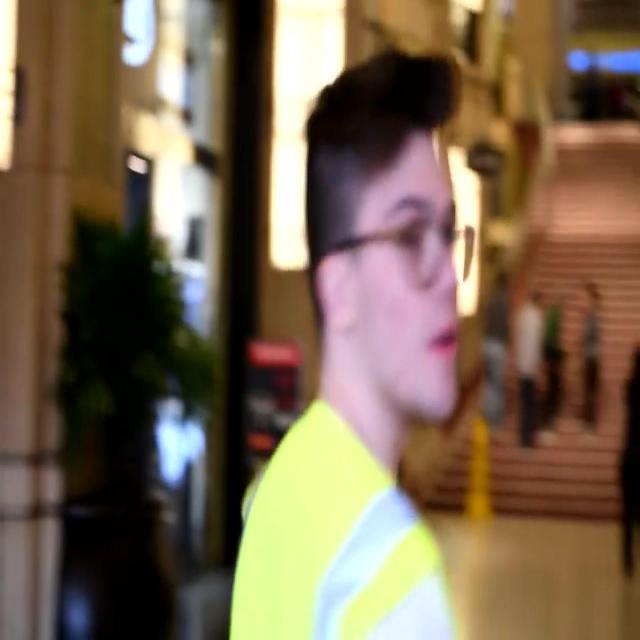Reflective-Jacket: (225, 400, 458, 640)
